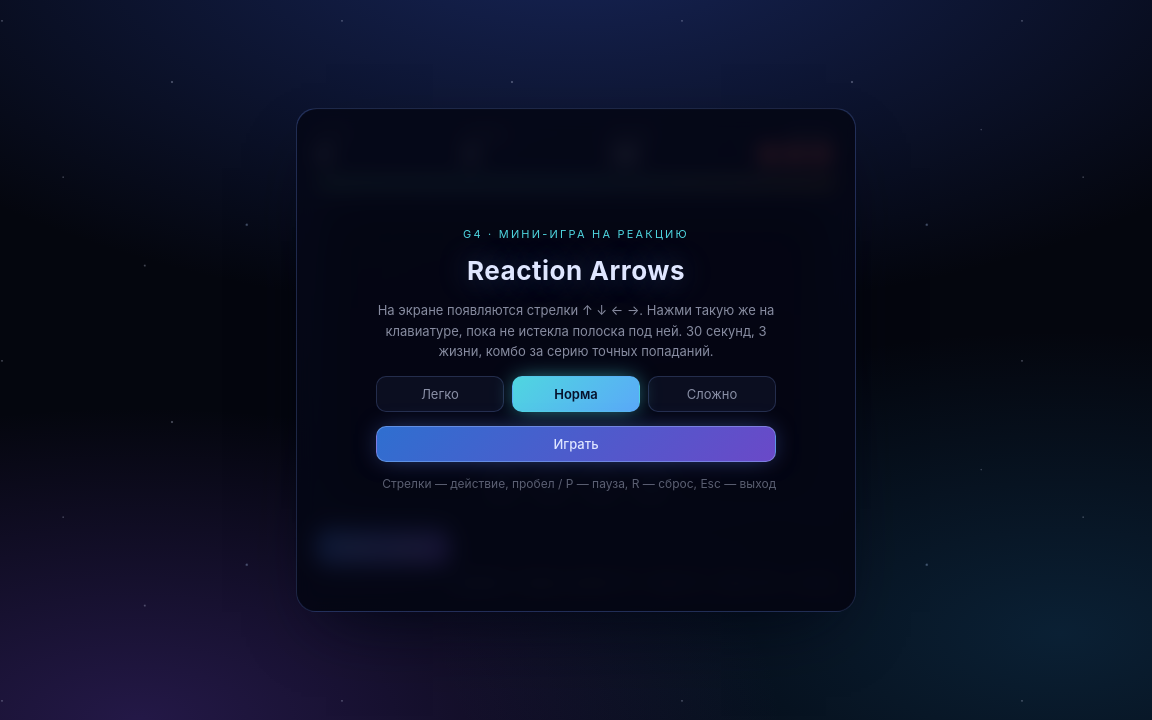
Scenario: difficulty is selectable
Click the button "Сложно" at (712,394), box [648,376,776,412]
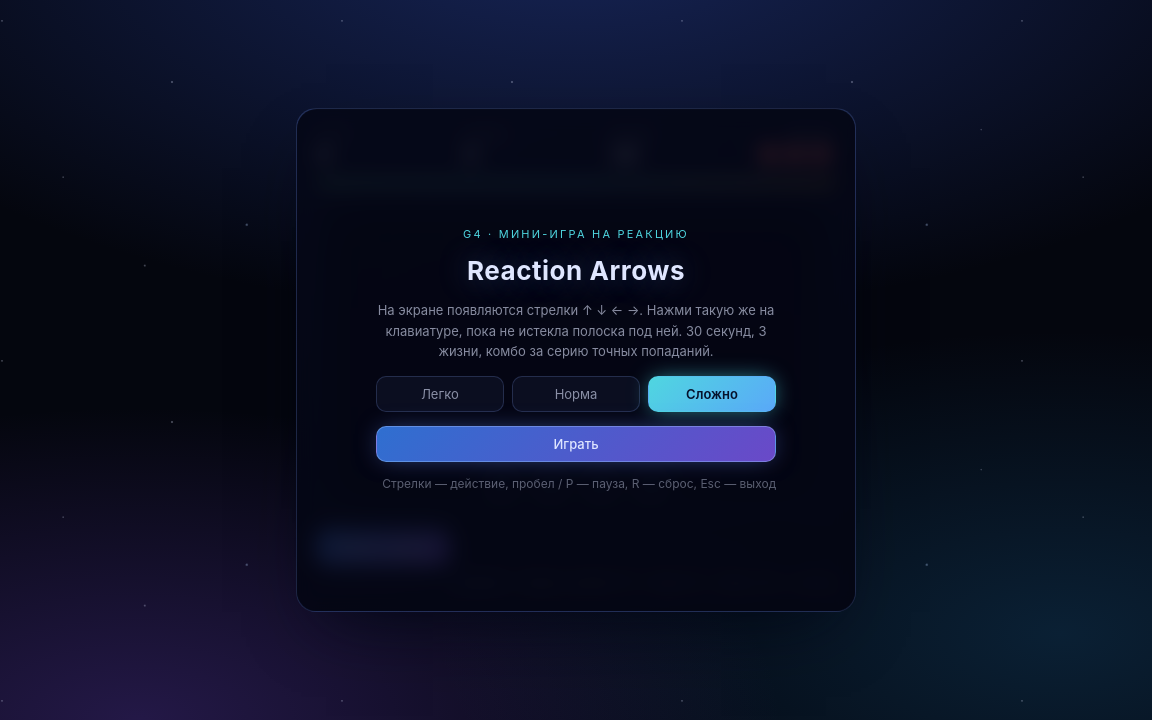
Expected: the button "Сложно" is pressed, [648,376,776,412]
Expected: the button "Норма" is not pressed, [512,376,640,412]
